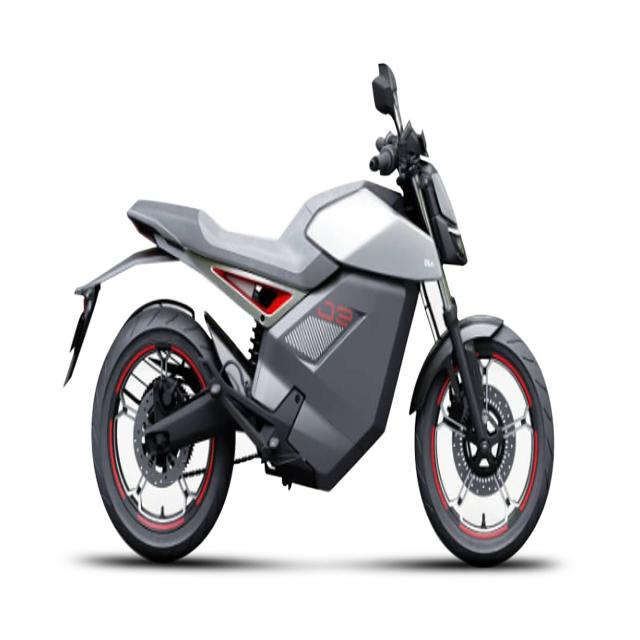Bike: (61, 120, 556, 571)
